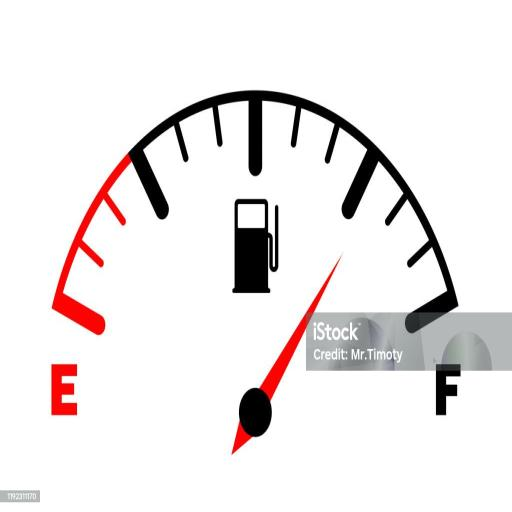empty: (47, 364, 81, 420)
fuel_icon: (231, 194, 284, 294)
full: (432, 361, 463, 415)
guage_area: (40, 83, 476, 459)
needle_center: (236, 384, 274, 440)
needle_tip: (327, 253, 348, 281)
